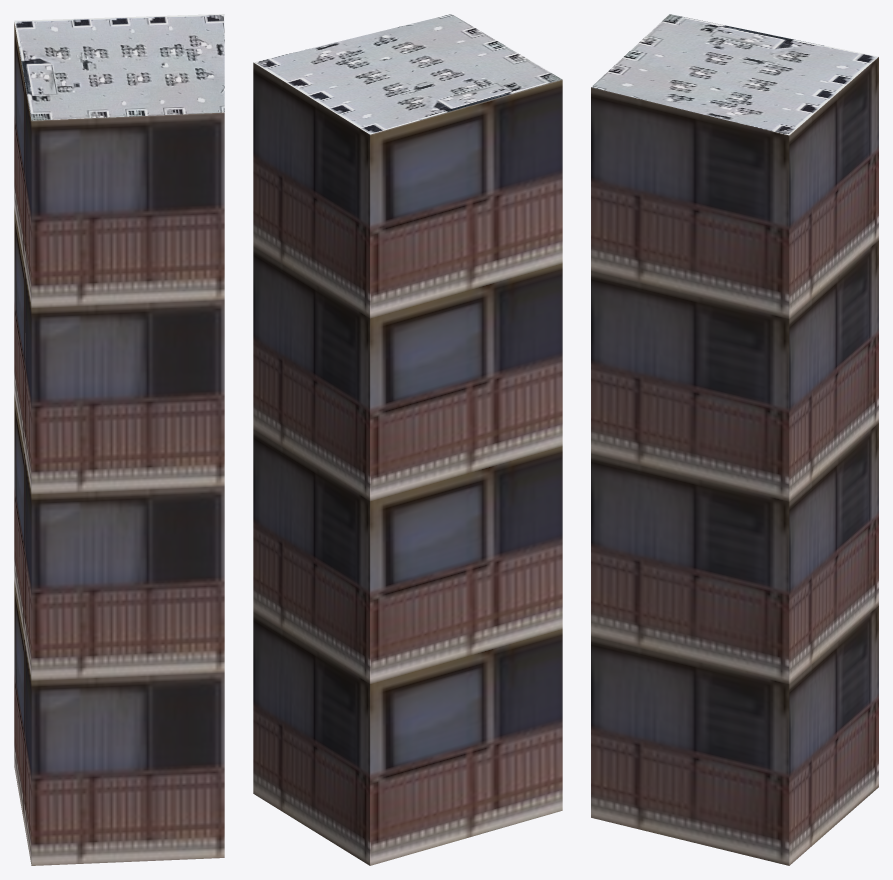
Rendered from ResTex__5308.fbx.
3 renders of one model, left to right at view 1: azimuth 30°, elevation 25°; view 2: azimuth 150°, elevation 25°; view 3: azimuth 270°, elevation 25°, orthographic. The views are drawn at different scales.
Visible parts, largest first — view 1: CityEngineMaterial_6_m, CityEngineMaterial_m; view 2: CityEngineMaterial_6_m, CityEngineMaterial_m; view 3: CityEngineMaterial_6_m, CityEngineMaterial_m.
Boxes of the visible parts, <box> form: CityEngineMaterial_6_m: <box>14,22,224,865</box>; CityEngineMaterial_m: <box>14,14,224,120</box>; CityEngineMaterial_6_m: <box>253,62,562,865</box>; CityEngineMaterial_m: <box>253,14,561,134</box>; CityEngineMaterial_6_m: <box>591,57,878,865</box>; CityEngineMaterial_m: <box>591,14,878,135</box>.
Bounding box in the file's own units: 4.28 × 12 × 4.28.
2 materials, 2 textured.
